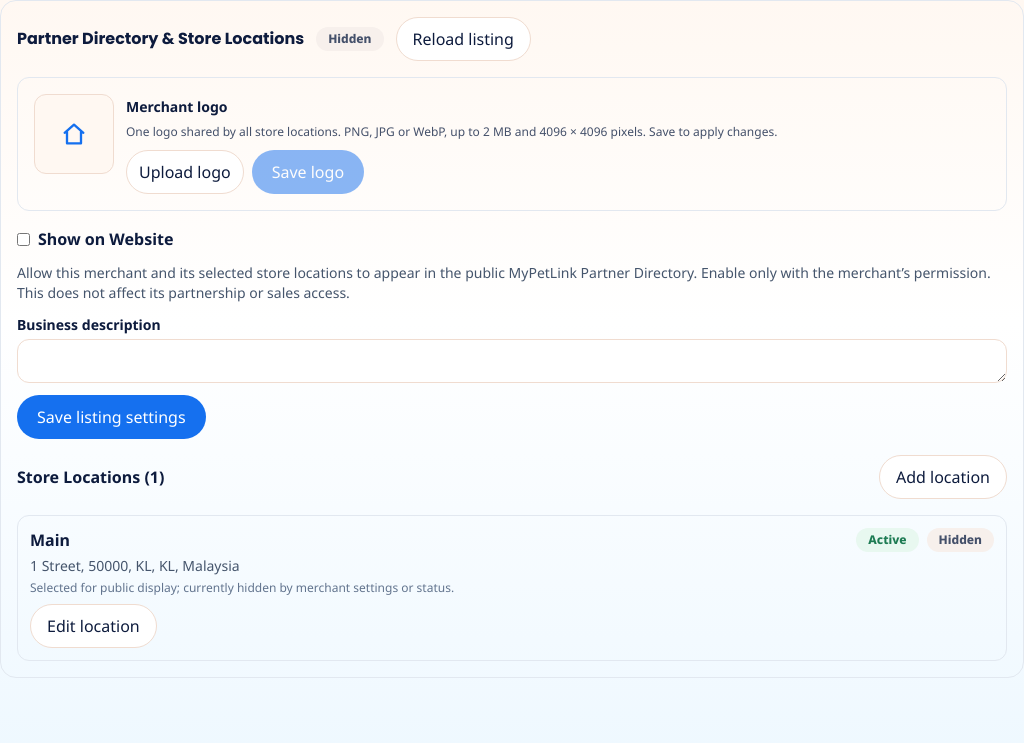
Test: Merchant listing management › preserves unsaved merchant fields when a branch is saved
Expected: the heading "Main" is shown, top-left (30, 528), bottom-right (70, 552)
Type "Unsaved merchant description" into the text box labelled "Business description".
click(512, 361); type("Unsaved merchant description")  # box top-left (17, 339), bottom-right (1007, 383)
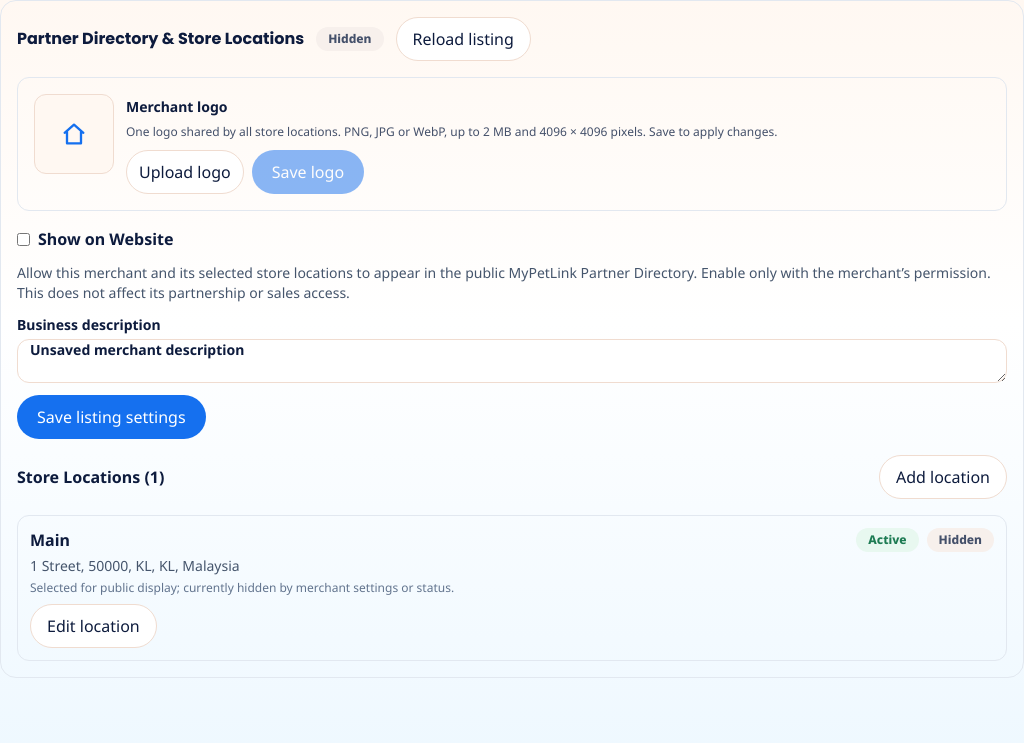
Click the checkbox labelled "Show on Website".
click(24, 239)  # box top-left (17, 232), bottom-right (30, 246)
(page scrolled)
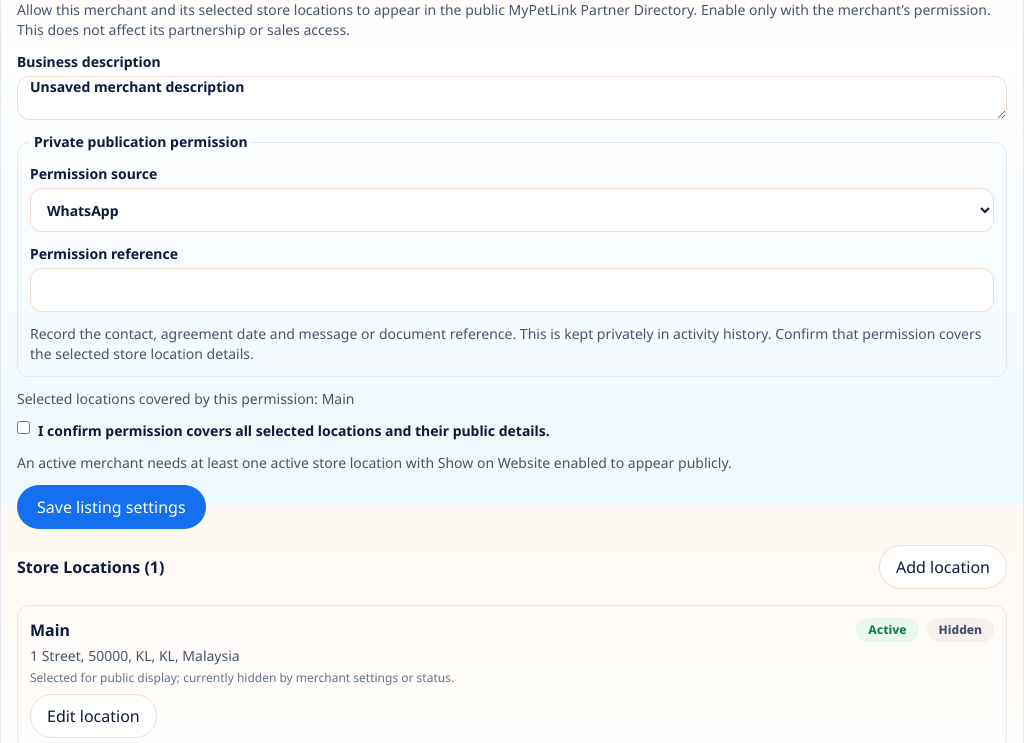
Click the button "Edit location".
click(93, 716)  # box top-left (30, 694), bottom-right (157, 738)
(page scrolled)
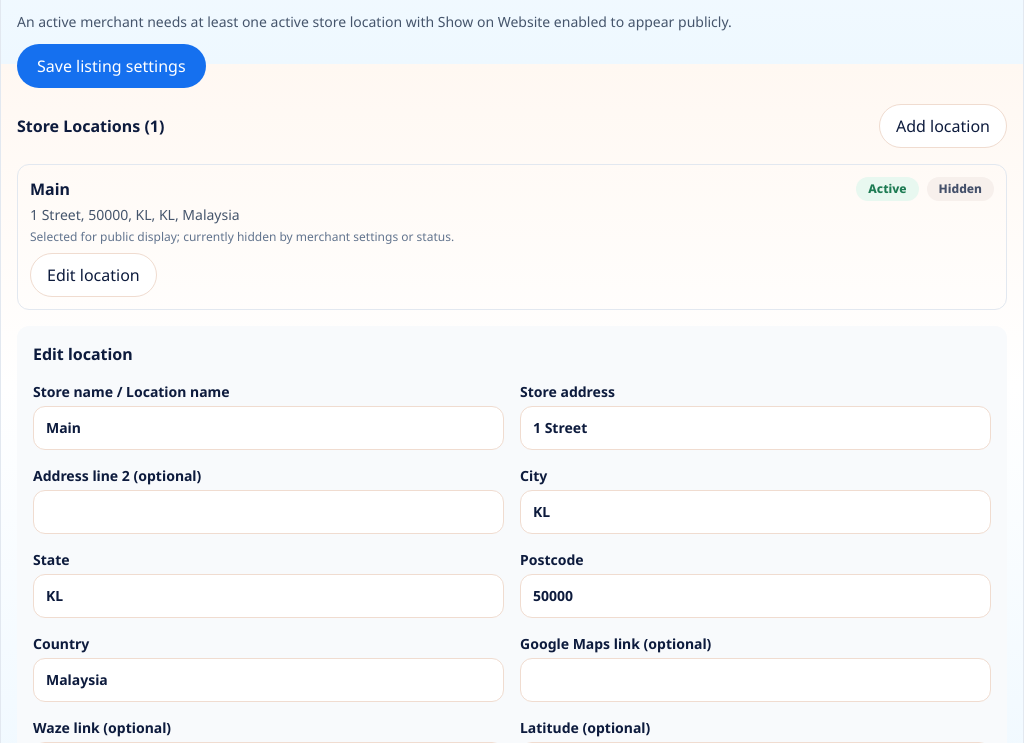
Replace the text in the field labelled "Store name / Location name" with "Changed branch" at coordinates (268, 428), box top-left (33, 406), bottom-right (504, 450)
(page scrolled)
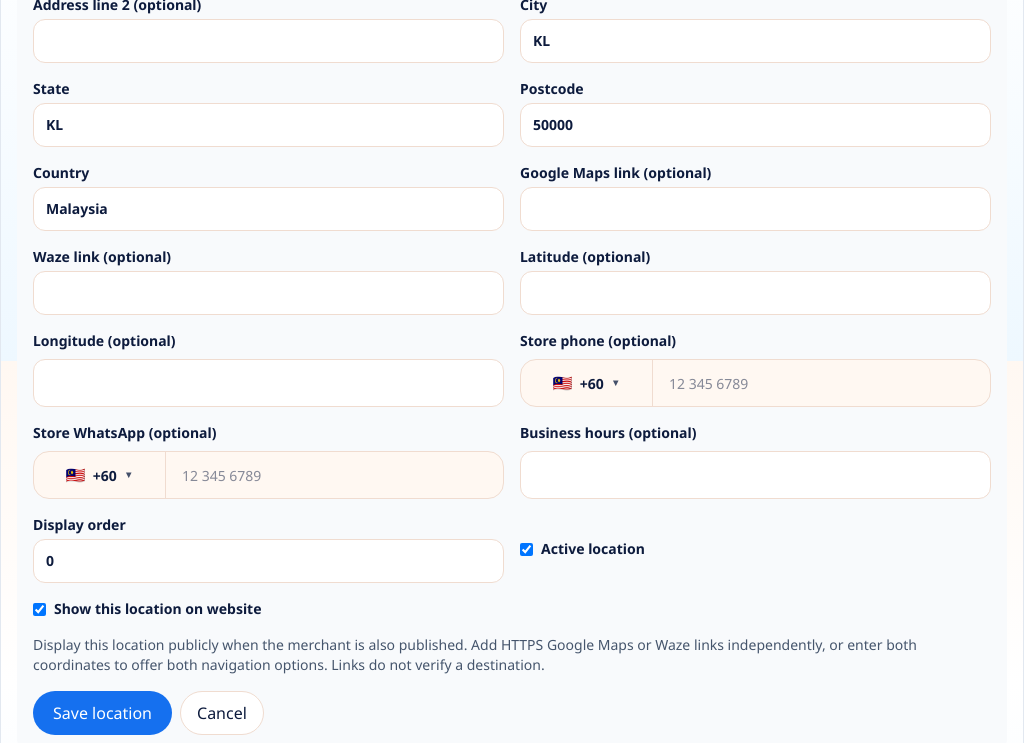
Click the button "Save location".
click(102, 713)  # box top-left (33, 691), bottom-right (172, 735)
(page scrolled)
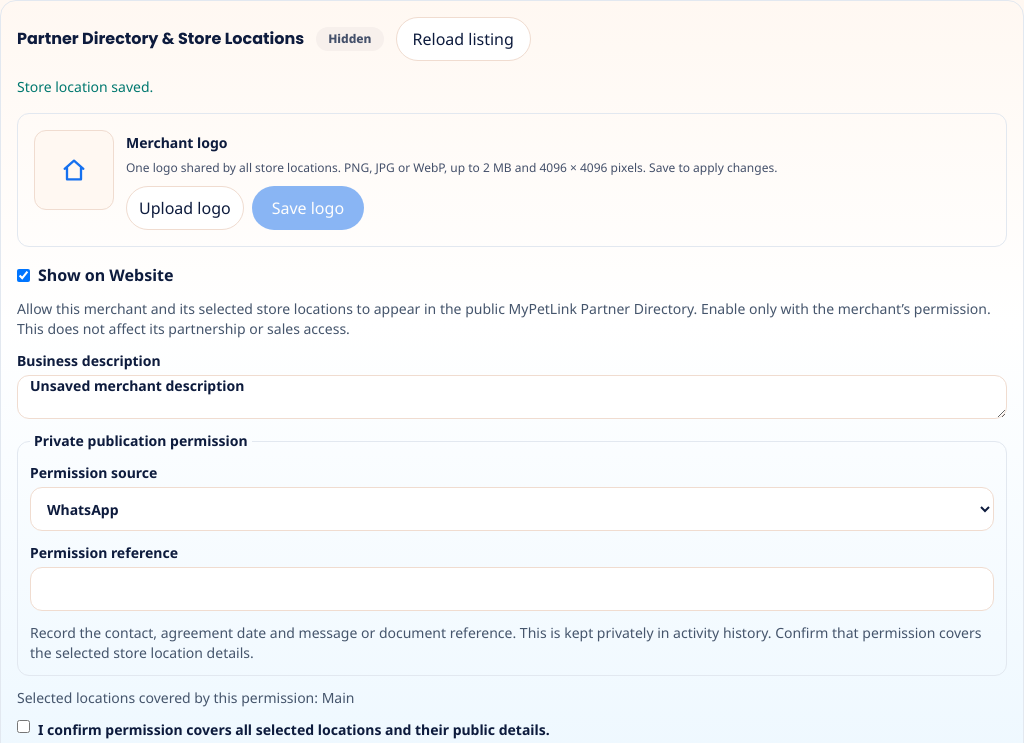
Expected: the checkbox labelled "Show on Website" is checked, top-left (17, 268), bottom-right (30, 282)
Expected: the text "Store location saved." is shown, top-left (17, 77), bottom-right (153, 96)
